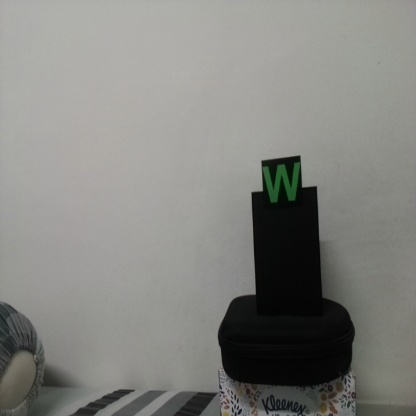id_12: (262, 159, 302, 215)
